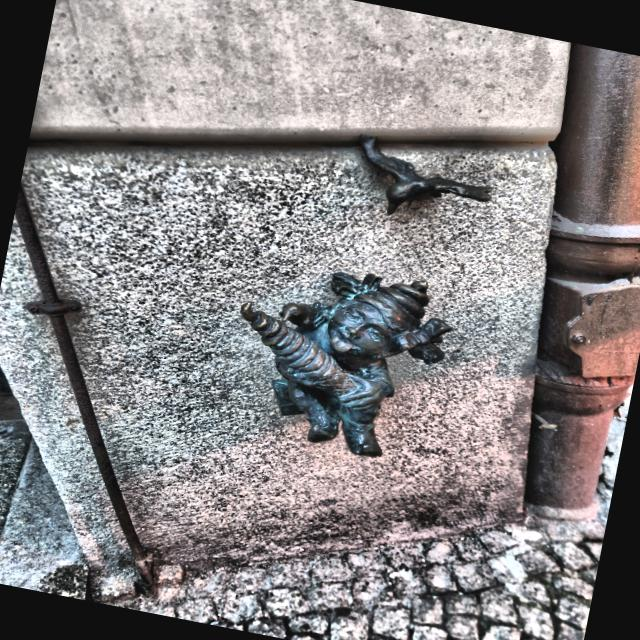Dziupelka: (240, 273, 452, 458), (359, 135, 490, 216)
